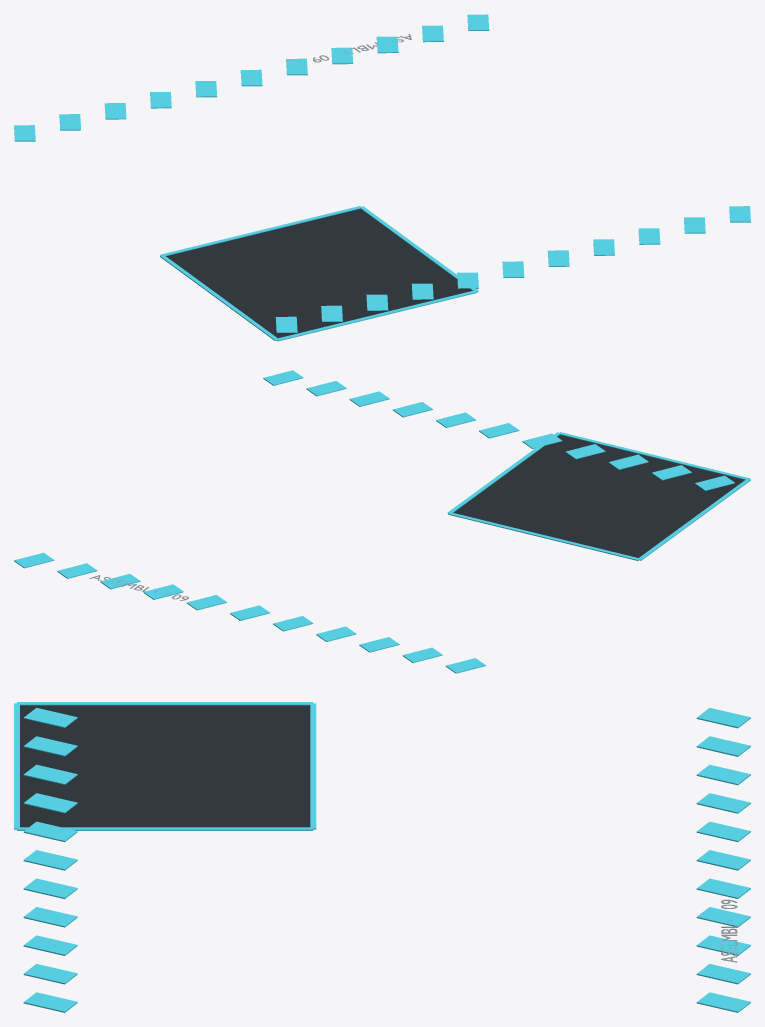
File: 1_Room.fbx
3 renders of one model, top to bottom at view 1: azimuth 30°, elevation 25°; view 2: azimuth 150°, elevation 25°; view 3: azimuth 270°, elevation 25°, orthographic. The views are drawn at different scales.
Parts seen in each view (by area): view 1: Body; view 2: Body; view 3: Body.
Part boxes in pixels (x1=…): Body: x1=14, y1=14, x2=750, y2=341; Body: x1=14, y1=370, x2=750, y2=673; Body: x1=14, y1=702, x2=750, y2=1012.
Bounding box in the file's own units: 10.89 × 0.022 × 10.95.
